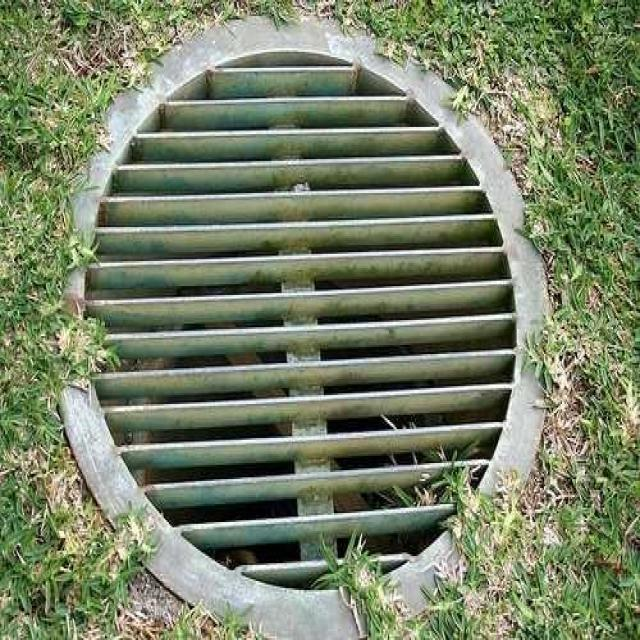manhole: (70, 14, 544, 640)
